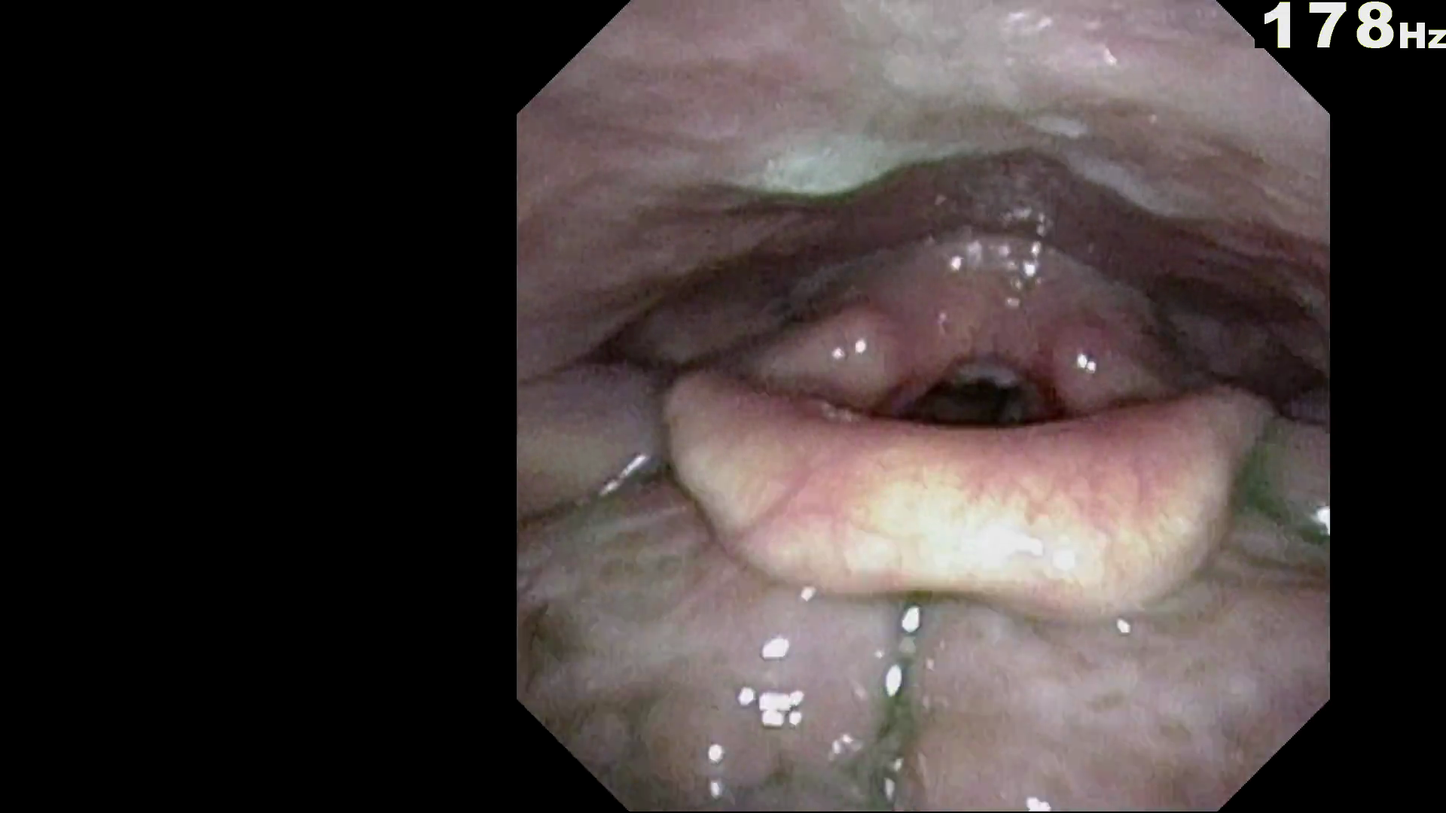epiglottis: (663, 404, 1276, 595)
trachea: (900, 373, 1049, 454)
